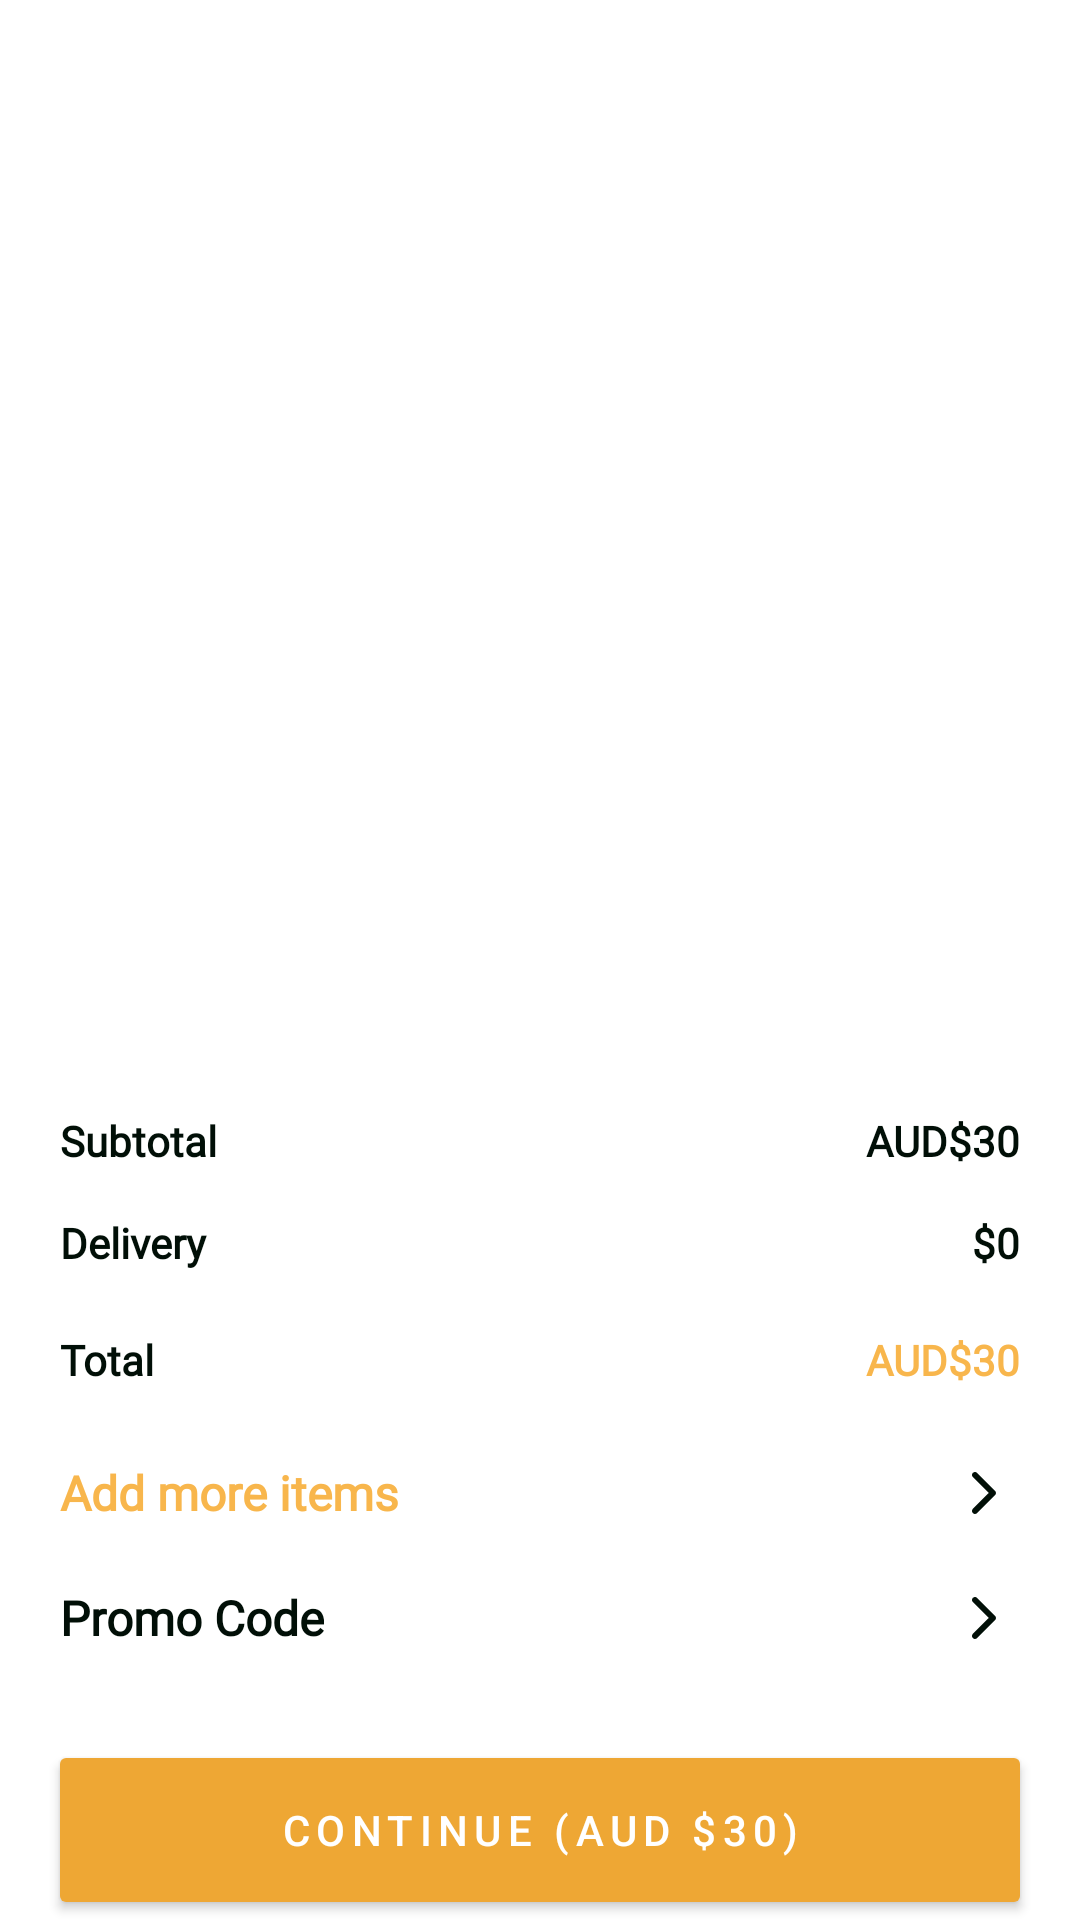

Icon click points for this 1080x1920 phone screenshot, format (x,y):
forward: (984,1493), (984,1618)
